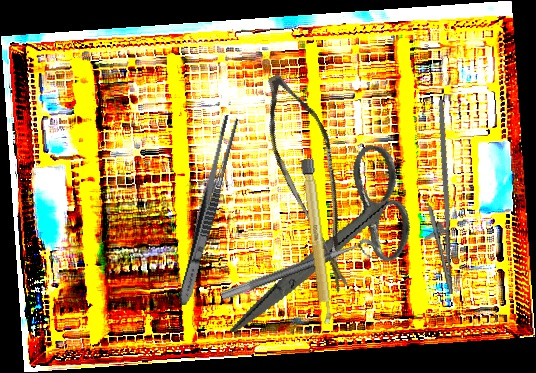Dressing Forceps: (174, 113, 241, 308)
Fixation Ring: (219, 236, 380, 313)
Iris Scissors: (227, 122, 431, 370)
Micro Scissor: (230, 66, 399, 296)
Needle Holder: (400, 99, 477, 297)
Scalpel Handle: (300, 158, 334, 325)
